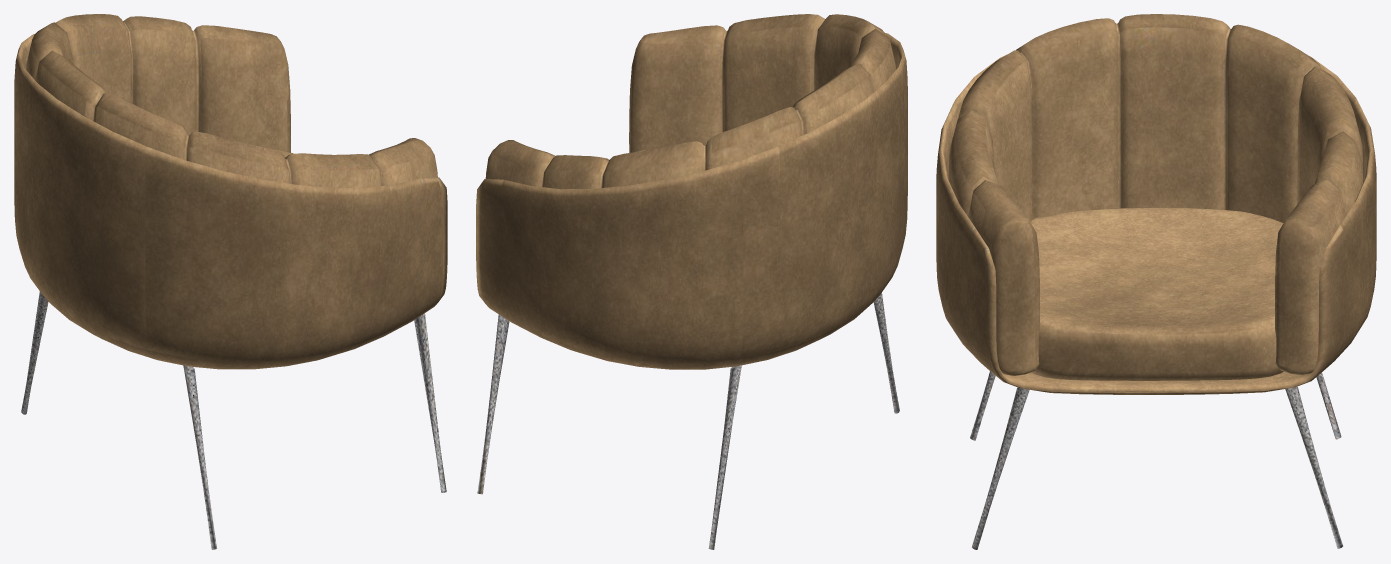
Rendered from living3.glb.
3 renders of one model, left to right at view 1: azimuth 30°, elevation 25°; view 2: azimuth 150°, elevation 25°; view 3: azimuth 270°, elevation 25°, orthographic. The views are drawn at different scales.
Parts seen in each view (by area): view 1: Cube, Cube.001, Cylinder; view 2: Cube, Cube.001, Cylinder; view 3: Cube.001, Cube.002, Cube, Cylinder.
Part boxes in pixels (box(x1,y1,x2,y2)): Cube: box(14, 34, 447, 369); Cube.001: box(26, 14, 437, 187); Cylinder: box(21, 291, 446, 549); Cube: box(476, 33, 907, 369); Cube.001: box(485, 14, 895, 189); Cylinder: box(477, 293, 899, 549); Cube.001: box(948, 14, 1362, 375); Cube.002: box(1030, 207, 1283, 380); Cube: box(936, 54, 1376, 394); Cylinder: box(970, 371, 1342, 549).
Bounding box in the file's own units: 0.6472 × 0.821 × 0.8057.
1 material, 1 textured.
